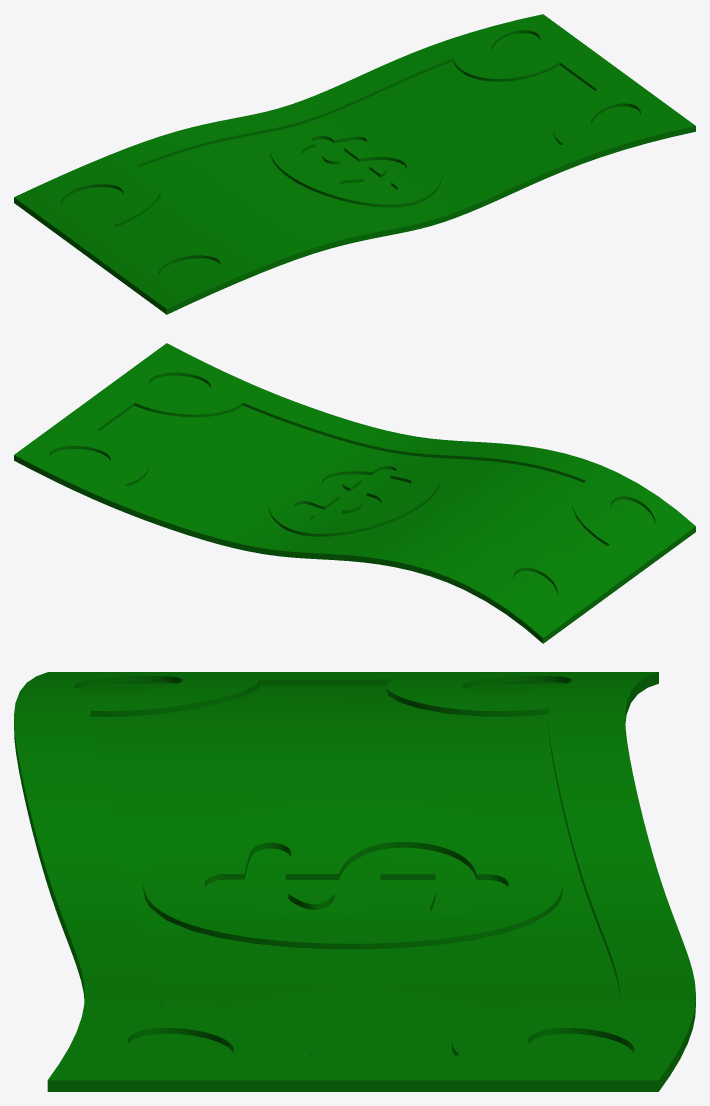
The model's file is dollar.obj.
3 views of the same model, one above another, from view 1: azimuth 30°, elevation 25°; view 2: azimuth 150°, elevation 25°; view 3: azimuth 270°, elevation 25° (orthographic). The views are drawn at different scales.
Bounding box in the file's own units: 6 × 0.6485 × 3.35.
